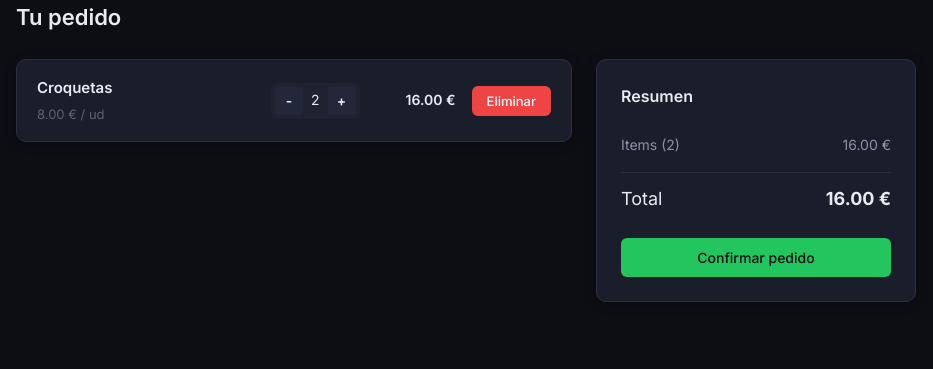
Test case: CartComponent › keeps the generic error for other failures
Step 1. Click the button "Confirmar pedido" → (756, 258), box [621,238,891,277]
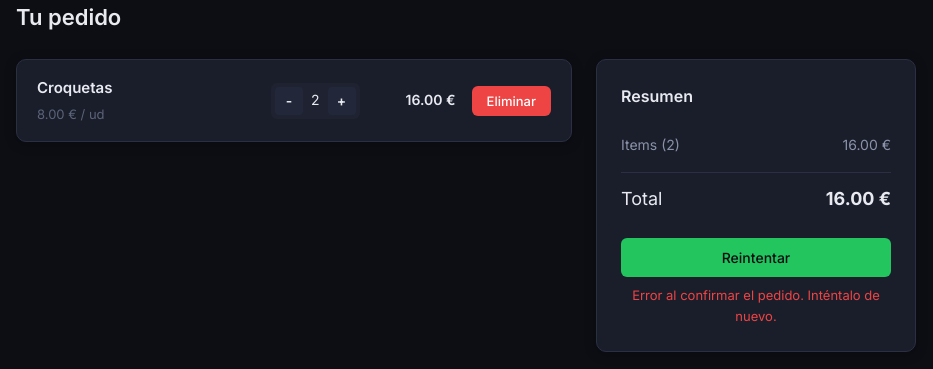
Check: the text "Error al confirmar el pedido. Inténtalo de nuevo." is shown, box [621,285,891,327]
